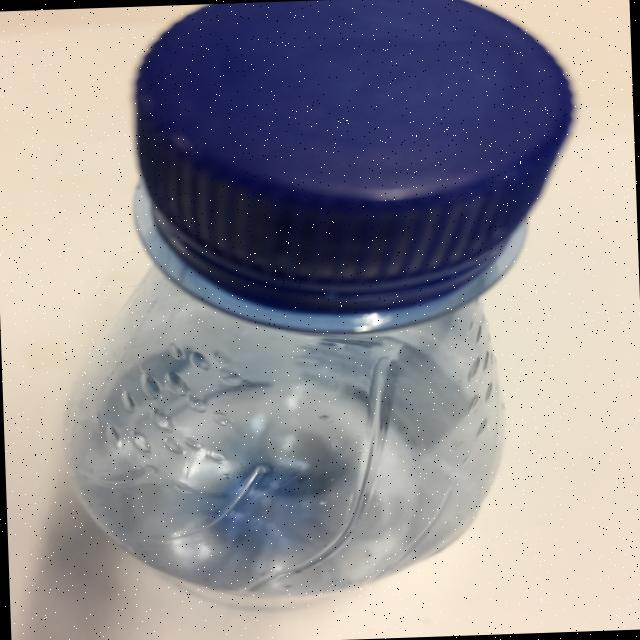plastic: (47, 0, 593, 611)
